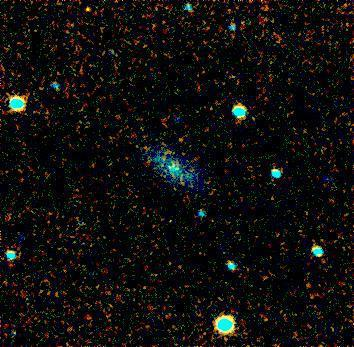star: (74, 0, 104, 24)
